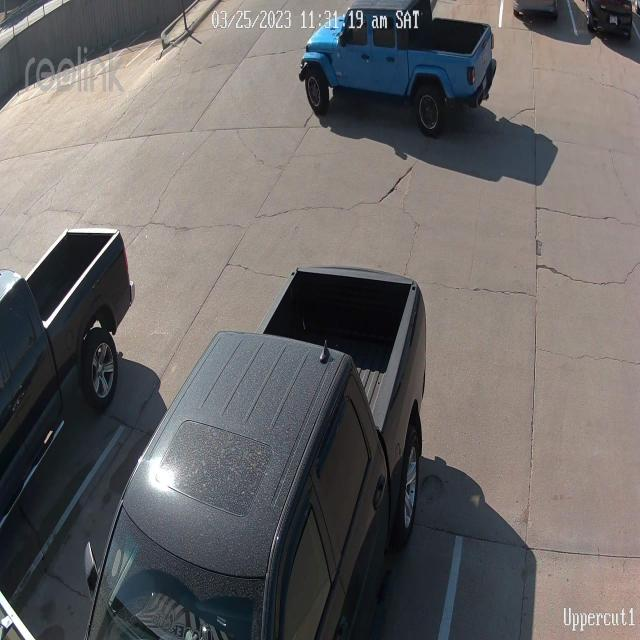Car: (300, 0, 497, 138)
Empty-slot: (441, 433, 640, 640), (6, 424, 155, 640), (436, 0, 502, 22)
Slot-Occupied: (107, 270, 425, 640), (27, 228, 134, 406), (586, 0, 636, 48), (518, 0, 572, 40)
